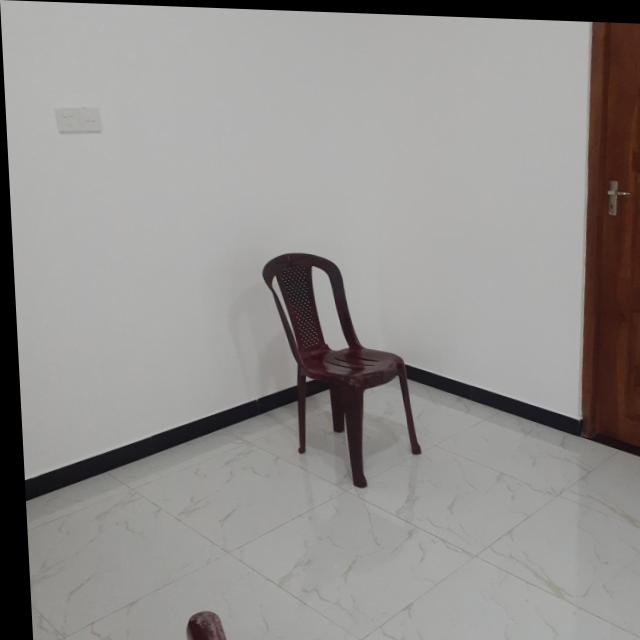Chair: (261, 248, 417, 490)
